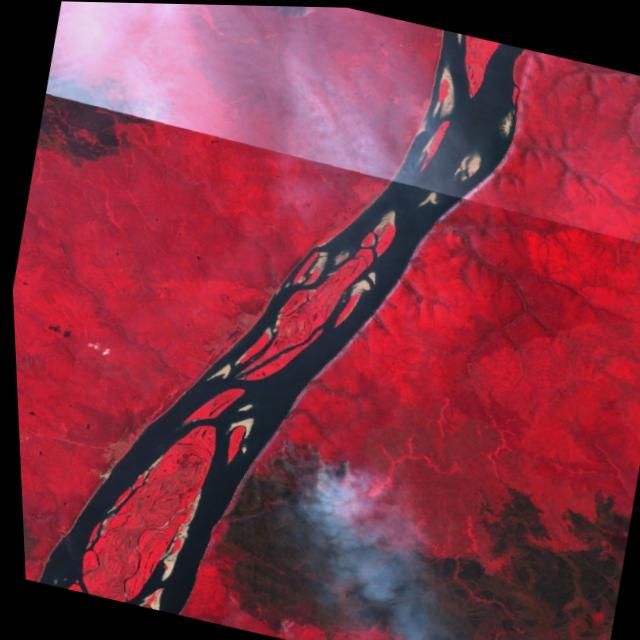fire: (265, 427, 359, 492), (248, 4, 327, 29)
